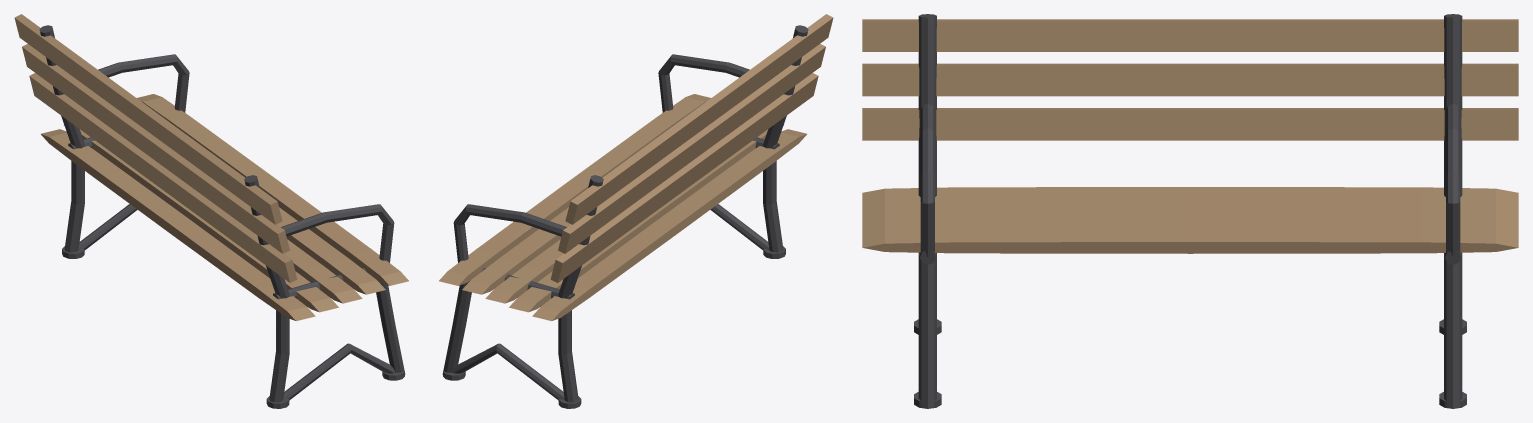
File: SM_Prop_ParkBench.fbx
3 views of the same model, side by side, from view 1: azimuth 30°, elevation 25°; view 2: azimuth 150°, elevation 25°; view 3: azimuth 270°, elevation 25° (orthographic). The views are drawn at different scales.
Visible parts, largest first — view 1: SM_Prop_ParkBench; view 2: SM_Prop_ParkBench; view 3: SM_Prop_ParkBench.
Part boxes in pixels (x1,y1,x2,y2): SM_Prop_ParkBench: (14,14,408,408); SM_Prop_ParkBench: (439,14,833,408); SM_Prop_ParkBench: (862,14,1518,408).
Size of the model in its own units: 1.8 by 0.6494 by 0.9218.
